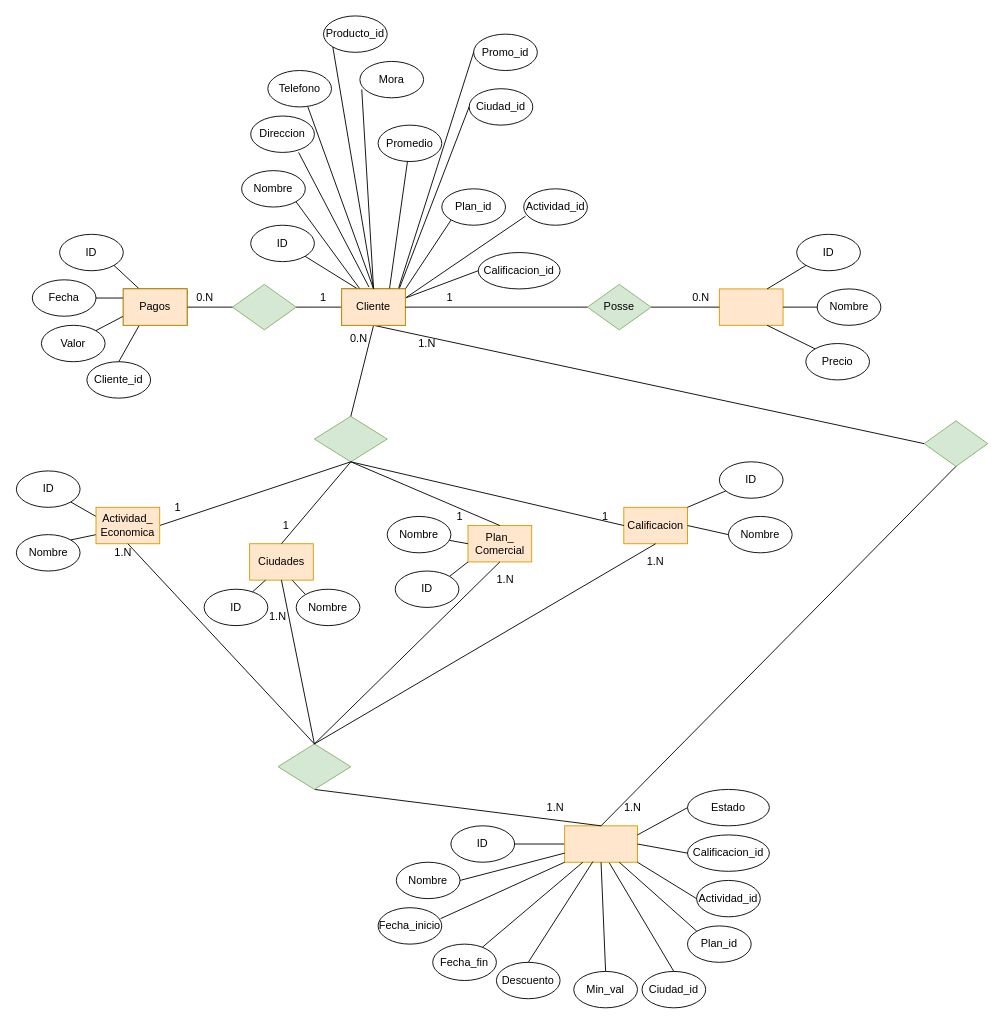
The diagram is 1004 pixels wide and 1024 high, and some of its shapes have lost their labels. The shapes that lost their labels are listed below. From the top down, each one's centre as x and y in pixels, then its label:
At (264,306): "Realiza".
At (750,306): "Productos".
At (350,438): "Pertenece a".
At (955,443): "Posee".
At (314,766): "Cuenta con".
At (600,843): "Promociones".
